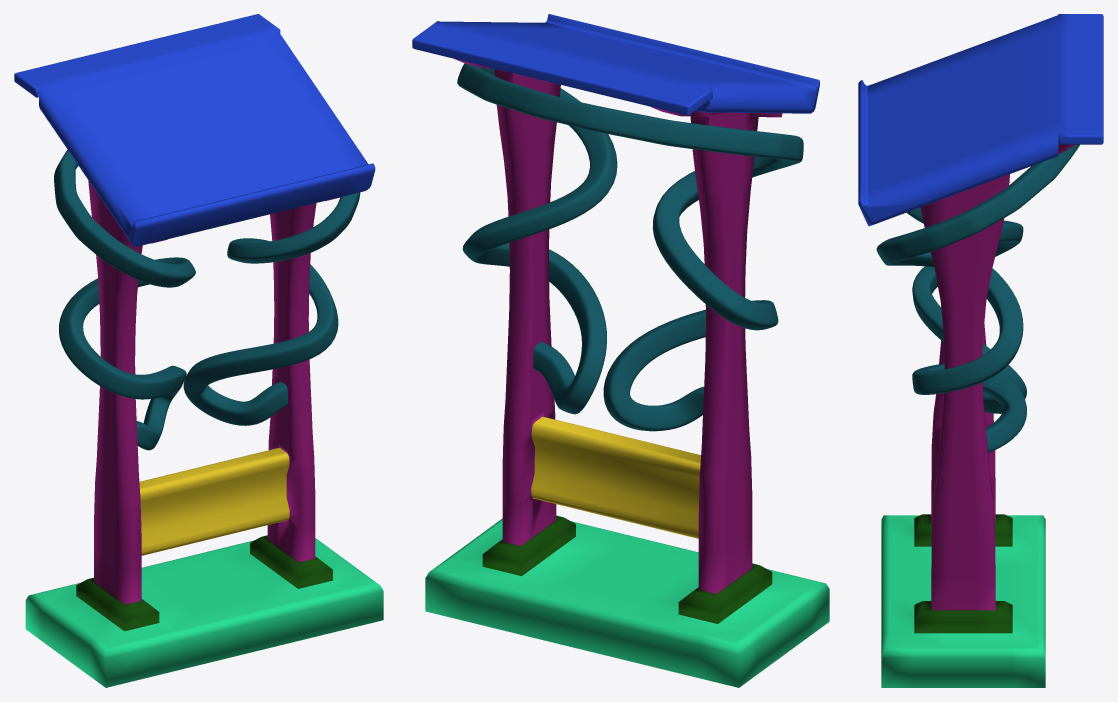
File: BookStand_Export_Final.fbx
3 views of the same model, side by side, from view 1: azimuth 30°, elevation 25°; view 2: azimuth 150°, elevation 25°; view 3: azimuth 270°, elevation 25° (orthographic). The views are drawn at different scales.
Visible parts, largest first — view 1: pCube1; view 2: pCube1; view 3: pCube1.
Part boxes in pixels (bbox=[...]): pCube1: bbox=[14, 14, 383, 687]; pCube1: bbox=[412, 14, 829, 687]; pCube1: bbox=[858, 14, 1103, 687].
Size of the model in its own units: 4.08 by 7.31 by 2.98.
